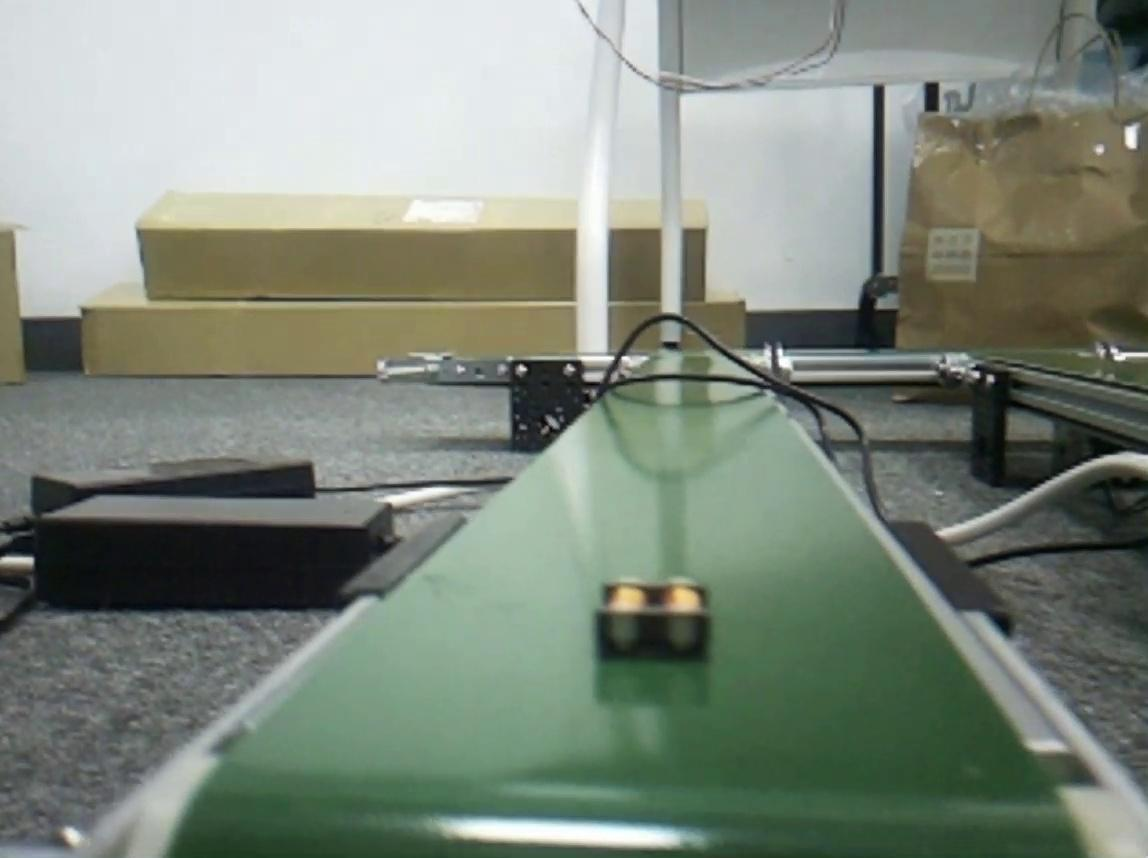inductor: (602, 575, 706, 652)
